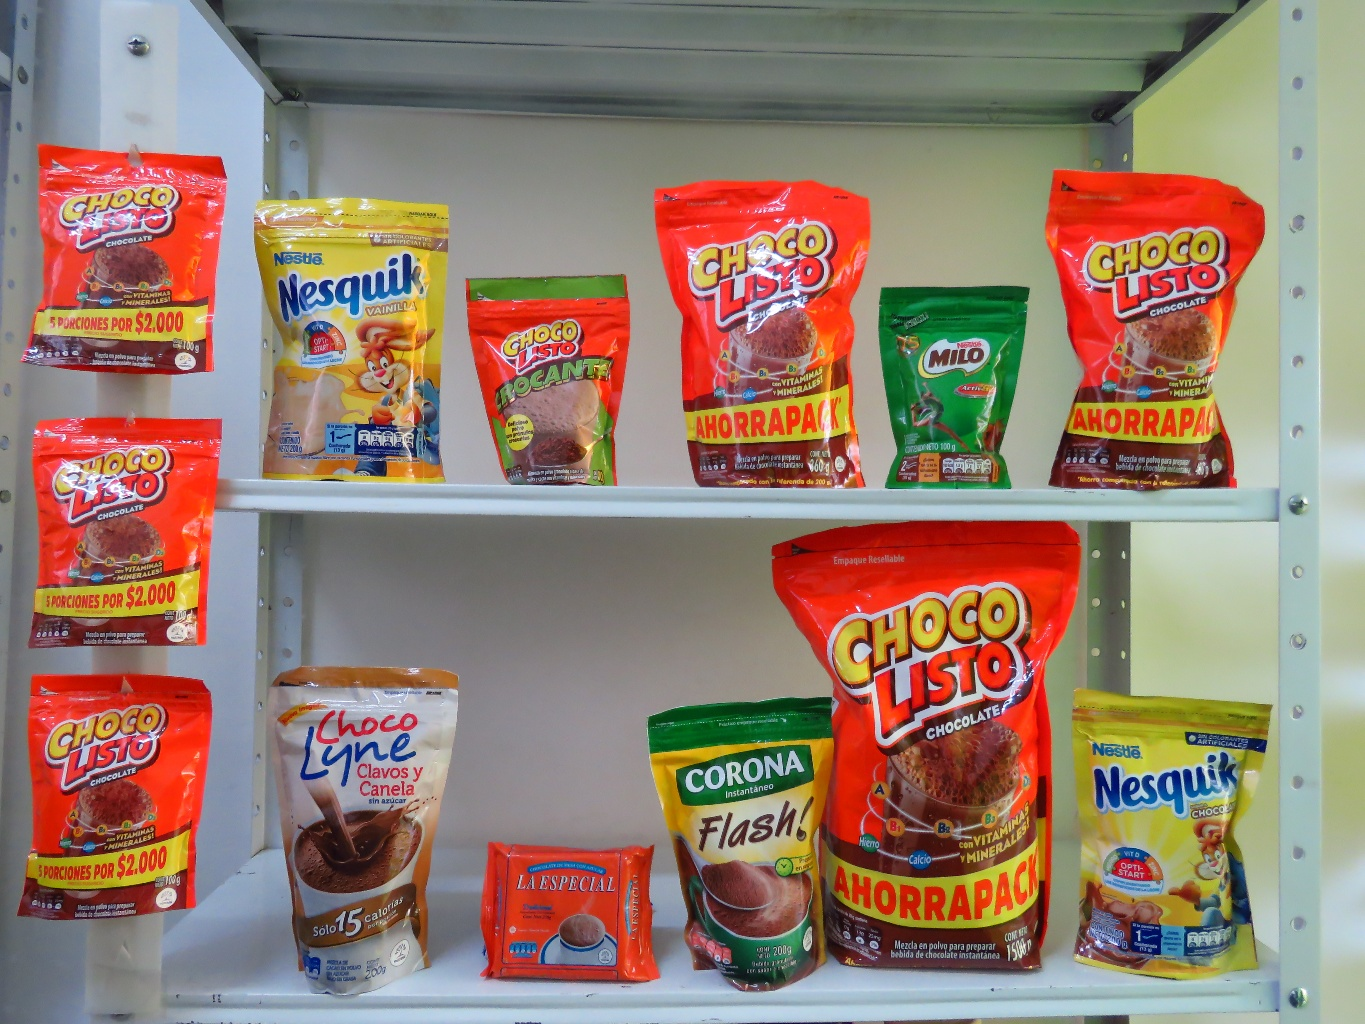COL0170102DYP10000: (464, 264, 632, 479)
COL0170103DYP1,500: (778, 512, 1095, 979)
COL0170103DYP10000: (22, 656, 204, 918)
COL0170103DYP36000: (652, 181, 879, 481)
COL0170103DYP40000: (1046, 168, 1265, 488)
COL0170203DYP10000: (878, 287, 1033, 492)
COL0170303DYP20000: (1053, 672, 1276, 967)
COL0170306DYP20000: (253, 195, 463, 487)
